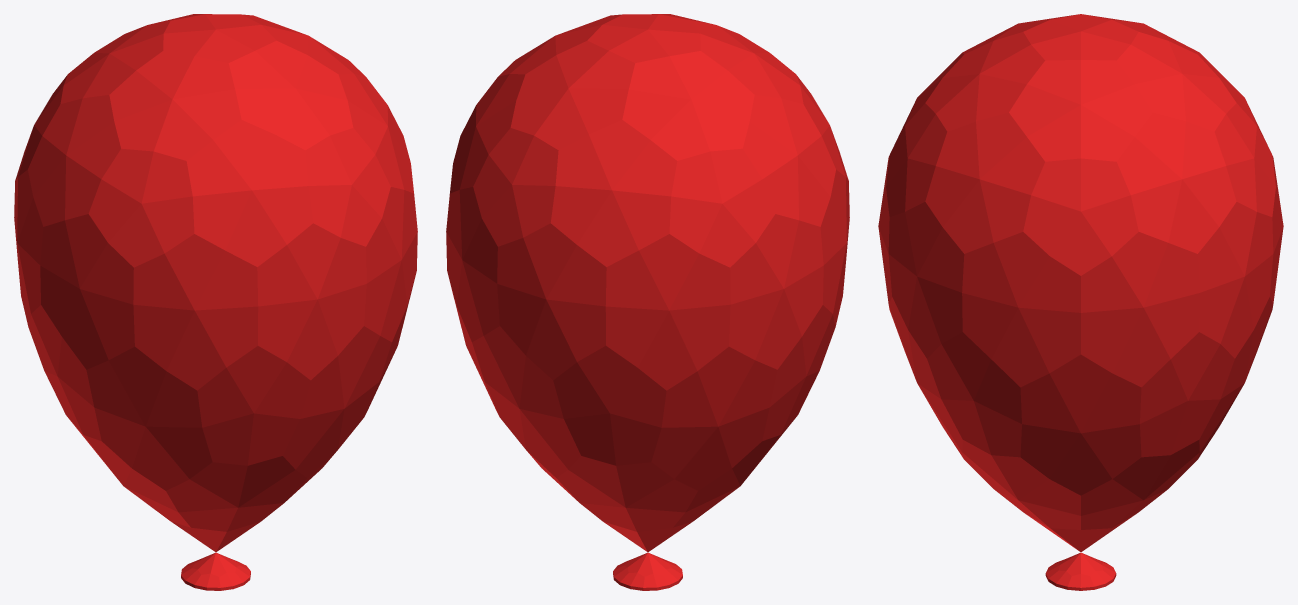
File: balloon.fbx
3 renders of one model, left to right at view 1: azimuth 30°, elevation 25°; view 2: azimuth 150°, elevation 25°; view 3: azimuth 270°, elevation 25°, orthographic.
Visible parts, largest first — view 1: Icosphere; view 2: Icosphere; view 3: Icosphere.
Boxes of the visible parts, x1,y1,x2,y2 form: Icosphere: [14, 14, 417, 590]; Icosphere: [446, 14, 849, 590]; Icosphere: [878, 14, 1283, 590].
Size of the model in its own units: 9231 by 13716 by 9249.
